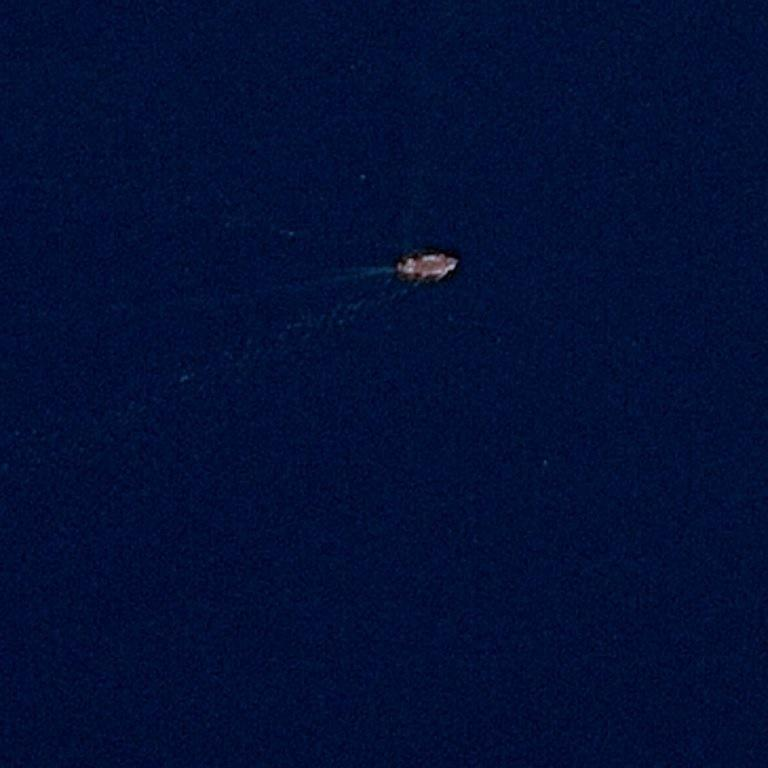ship: (394, 250, 462, 285), (451, 257, 458, 264), (396, 43, 403, 49), (381, 262, 388, 266)
